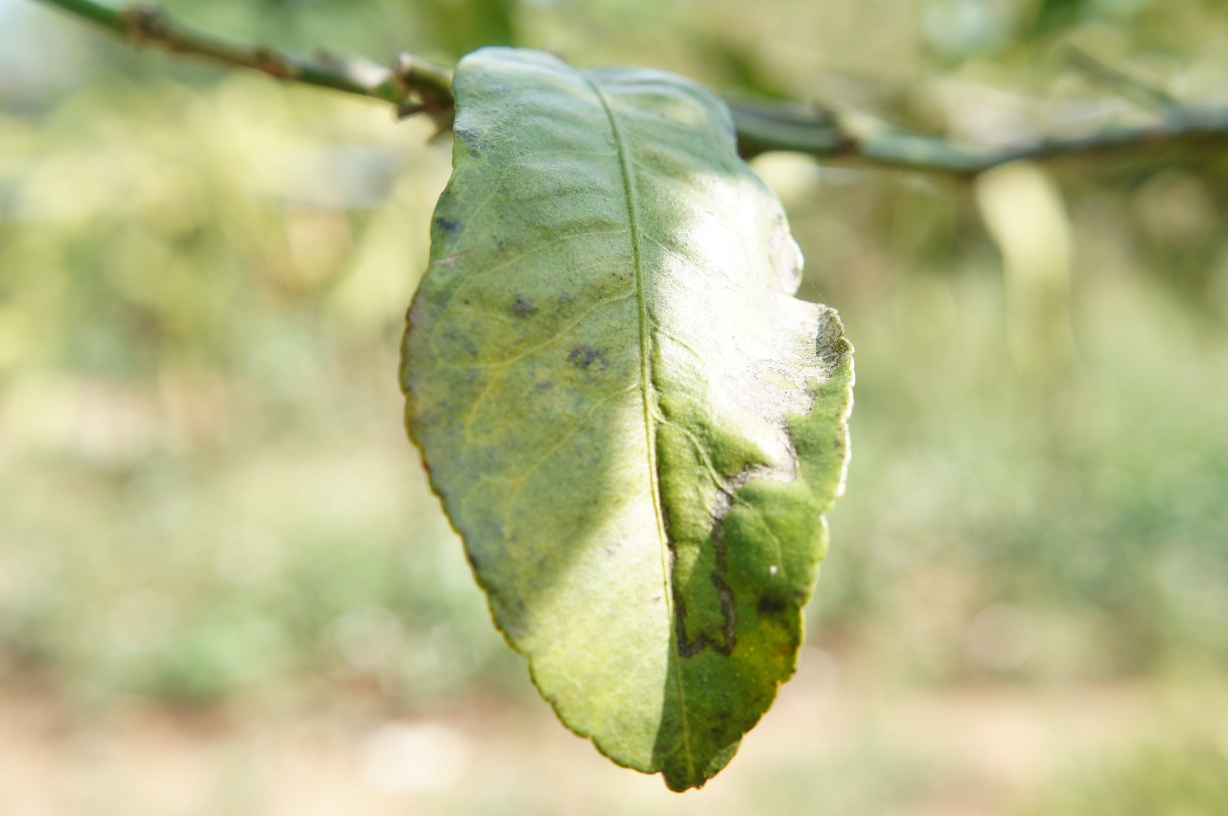damage: (635, 296, 862, 669)
